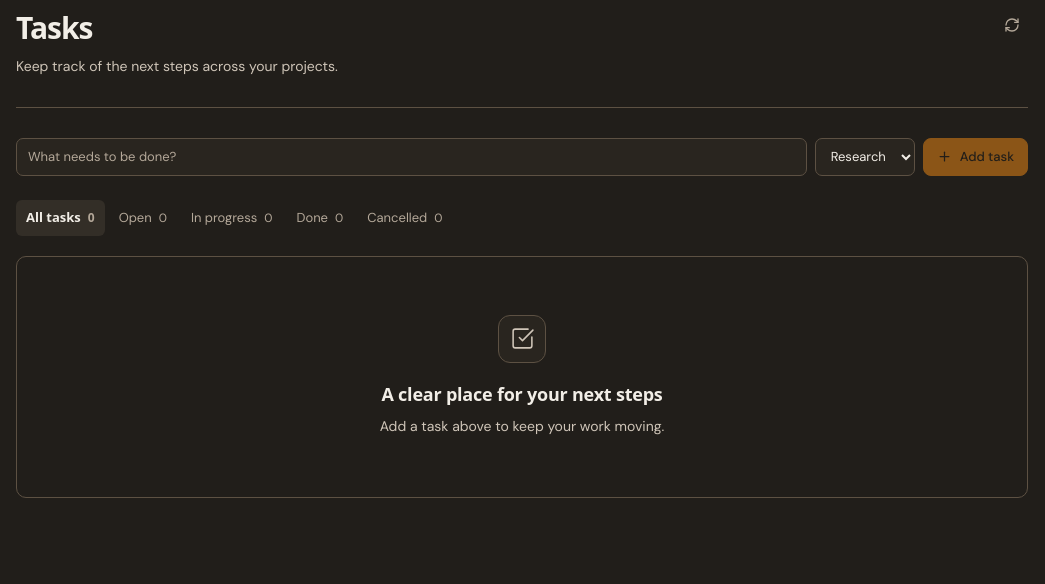
Test: supporting page recovery › retains the task draft and exposes a failed save
Expected: the heading "A clear place for your next steps" is shown, x1=381 y1=381 x2=663 y2=407
In the field named "Task title": point(411, 157) x1=16 y1=138 x2=807 y2=176, type "Review sources"
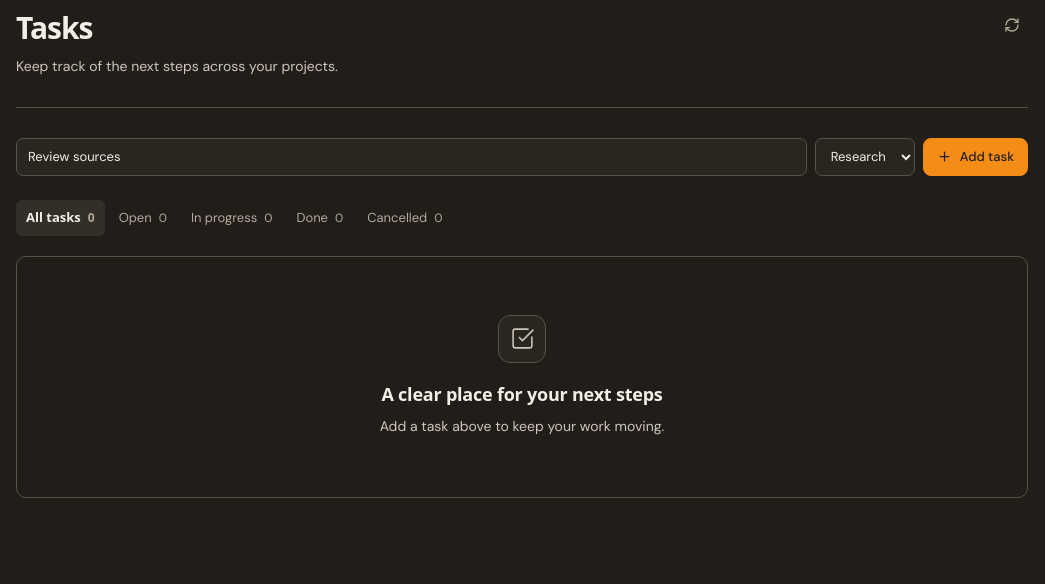
Click the button "Add task": point(975, 157) x1=923 y1=138 x2=1028 y2=176
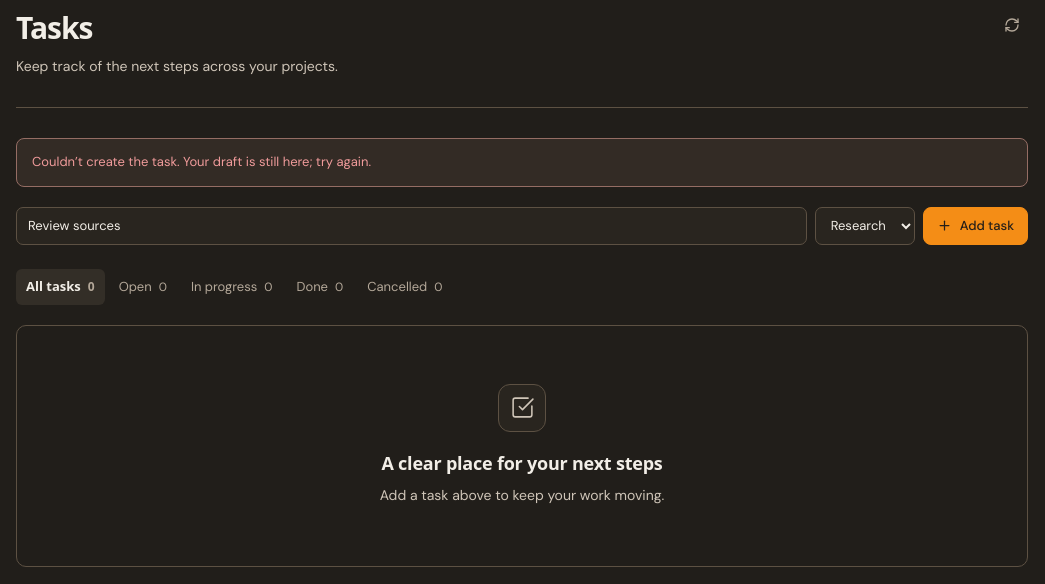
Expected: the message reads "Couldn’t create the task. Your draft is still here; try again.", x1=32 y1=153 x2=371 y2=170
